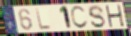1: (59, 5, 74, 31)
6: (18, 8, 34, 31)
C: (70, 5, 89, 30)
H: (105, 4, 126, 27)
L: (35, 8, 53, 31)
S: (87, 4, 107, 29)
